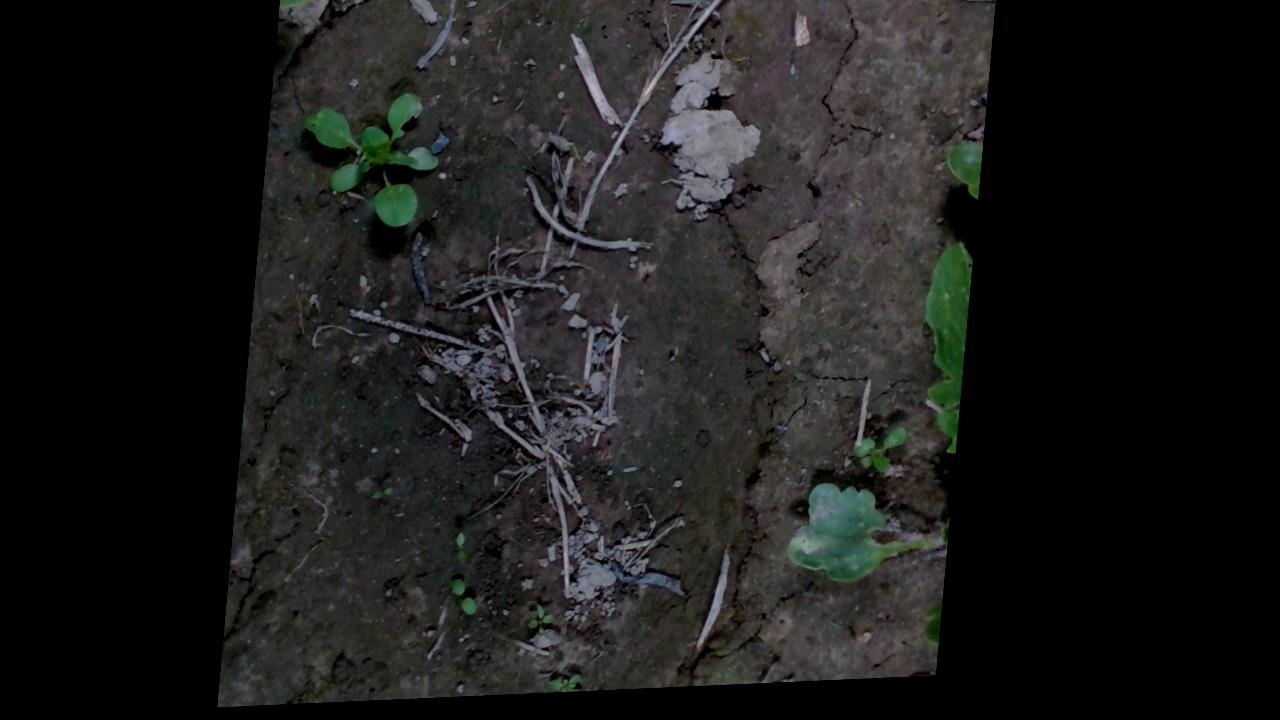weed: (857, 432, 917, 480), (456, 579, 492, 620), (538, 605, 571, 638), (561, 679, 604, 698), (465, 534, 481, 567)
